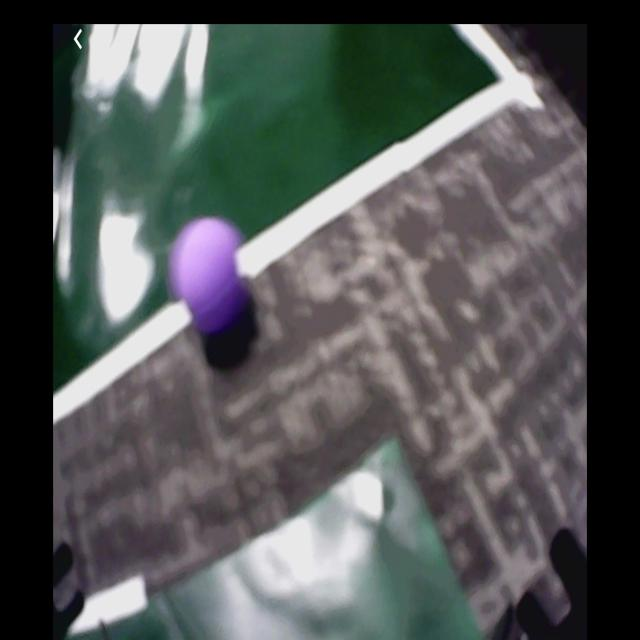ball: (179, 216, 248, 337)
